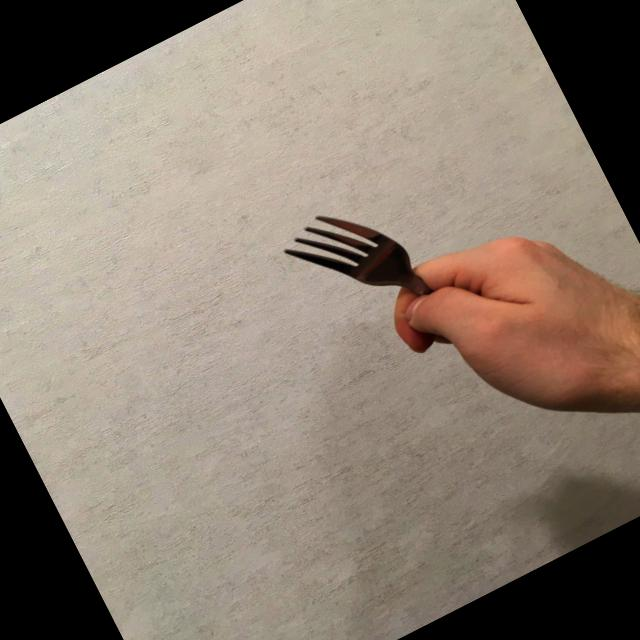fork: (274, 180, 462, 394)
